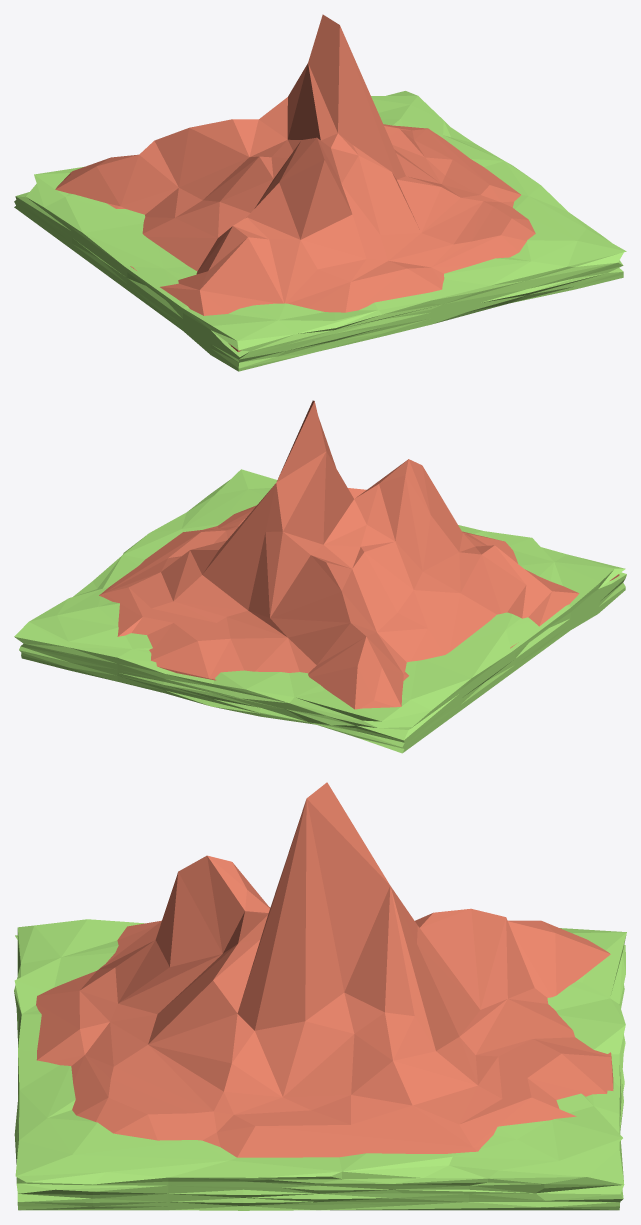
Rendered from tile_mountain.fbx.
3 views of the same model, one above another, from view 1: azimuth 30°, elevation 25°; view 2: azimuth 150°, elevation 25°; view 3: azimuth 270°, elevation 25° (orthographic). The views are drawn at different scales.
Parts seen in each view (by area): view 1: mountain tile; view 2: mountain tile; view 3: mountain tile.
Boxes of the visible parts, x1,y1,x2,y2 form: mountain tile: (14,14,626,371); mountain tile: (14,400,626,753); mountain tile: (14,782,626,1210).
Bounding box in the file's own units: 102 × 56.87 × 102.
